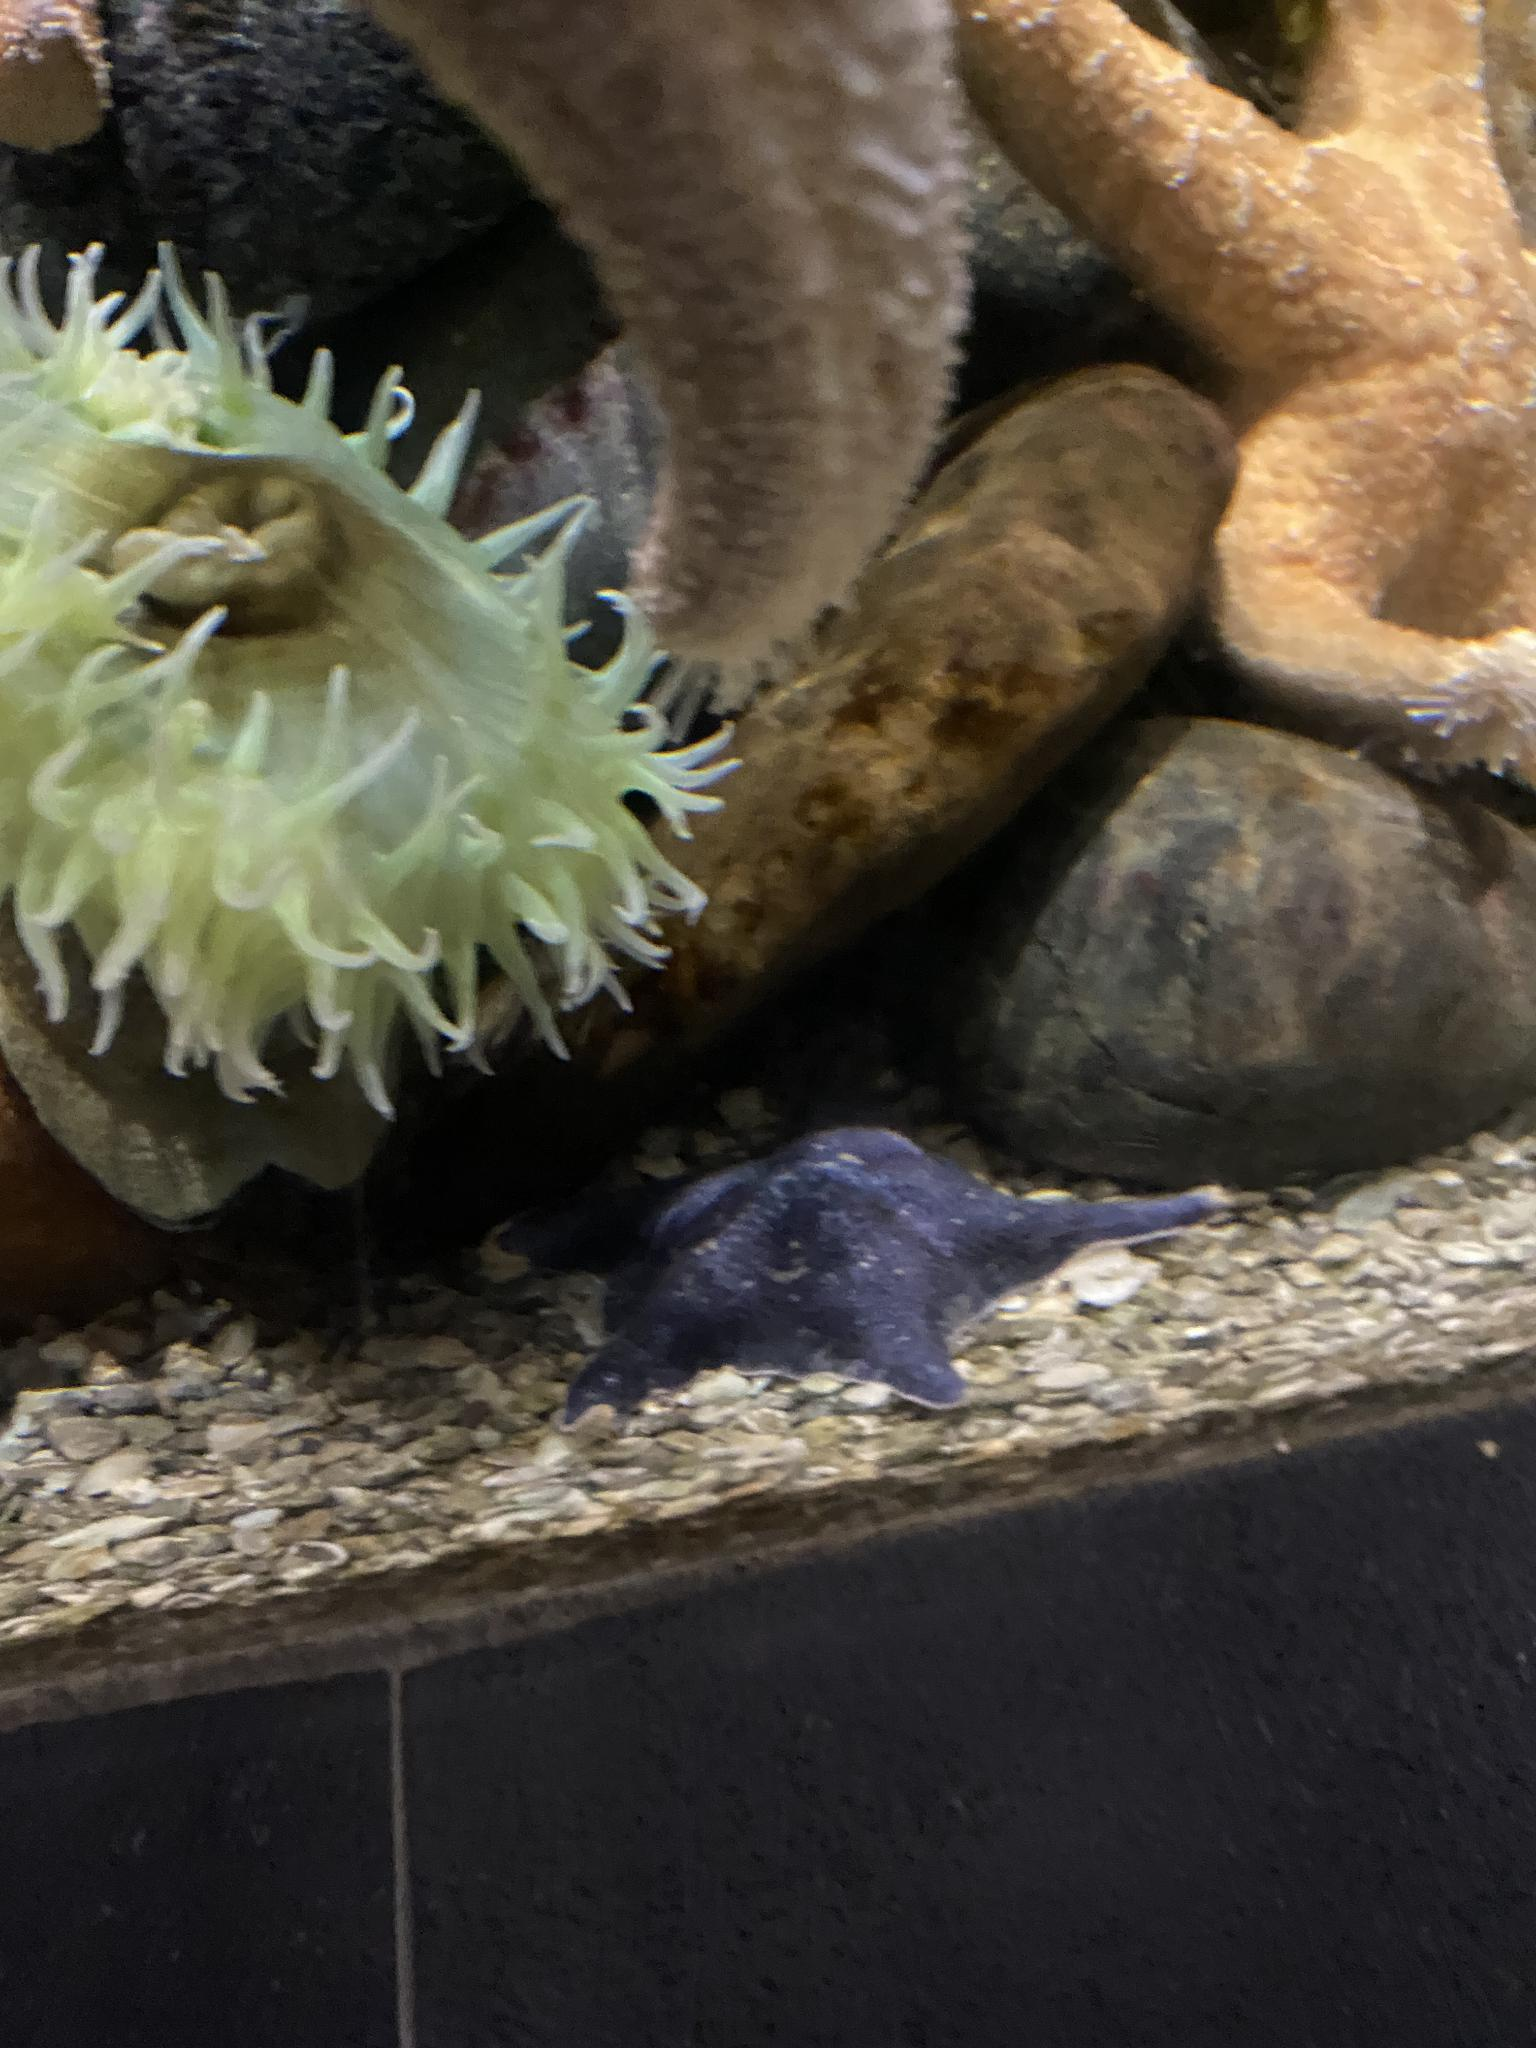starfish: (497, 1129, 1221, 1414)
